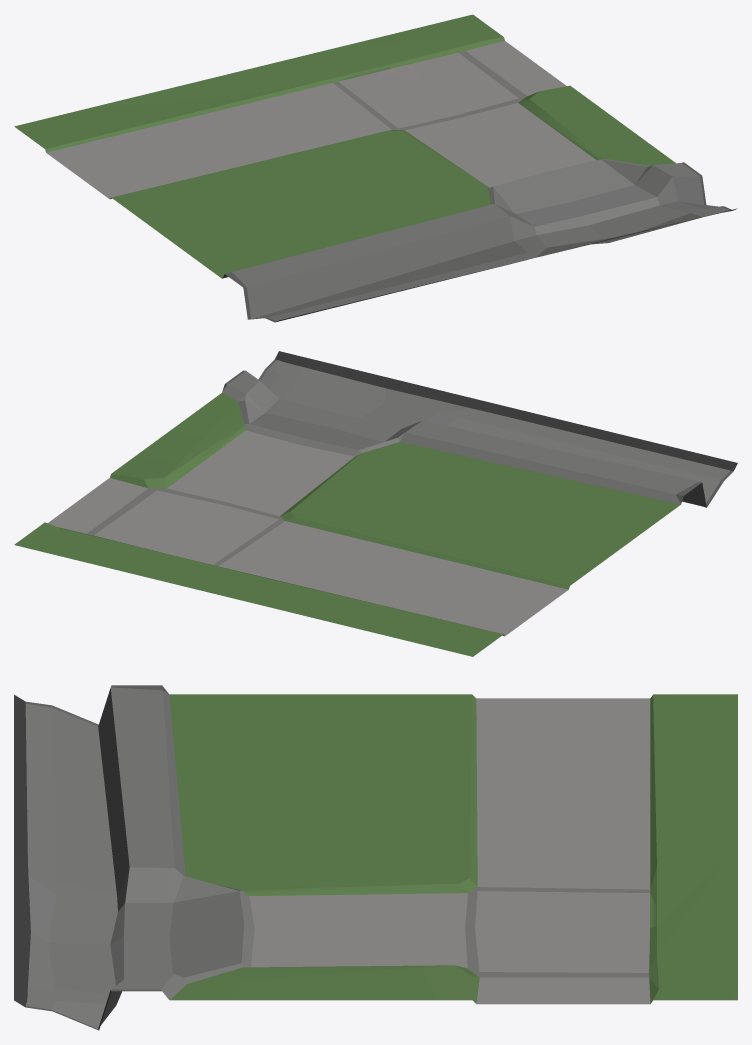
File: SM_Env_Sidewalk_Crossing_02.fbx
The picture shows the model from 3 angles, top to bottom: view 1: azimuth 30°, elevation 25°; view 2: azimuth 150°, elevation 25°; view 3: azimuth 270°, elevation 25°; orthographic projection. The views are drawn at different scales.
Visible parts, largest first — view 1: SM_Env_Sidewalk_Crossing_02; view 2: SM_Env_Sidewalk_Crossing_02; view 3: SM_Env_Sidewalk_Crossing_02.
Boxes of the visible parts, left/top/right/bottom form: SM_Env_Sidewalk_Crossing_02: left=14, top=14, right=737, bottom=322; SM_Env_Sidewalk_Crossing_02: left=14, top=351, right=737, bottom=656; SM_Env_Sidewalk_Crossing_02: left=14, top=685, right=737, bottom=1030.
Bounding box in the file's own units: 500 × 30 × 500.
